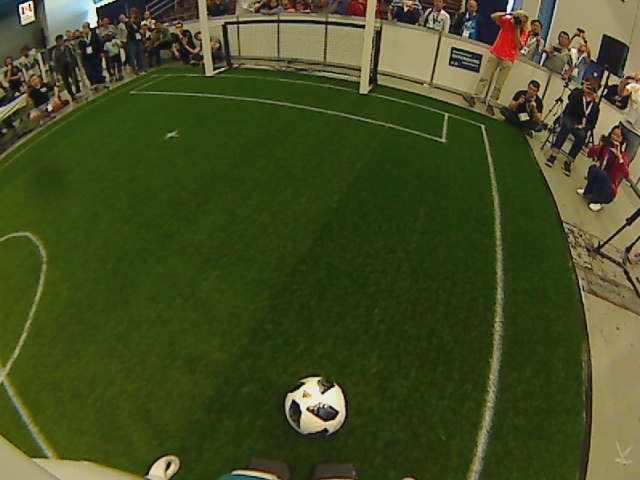ball: (282, 373, 349, 440)
